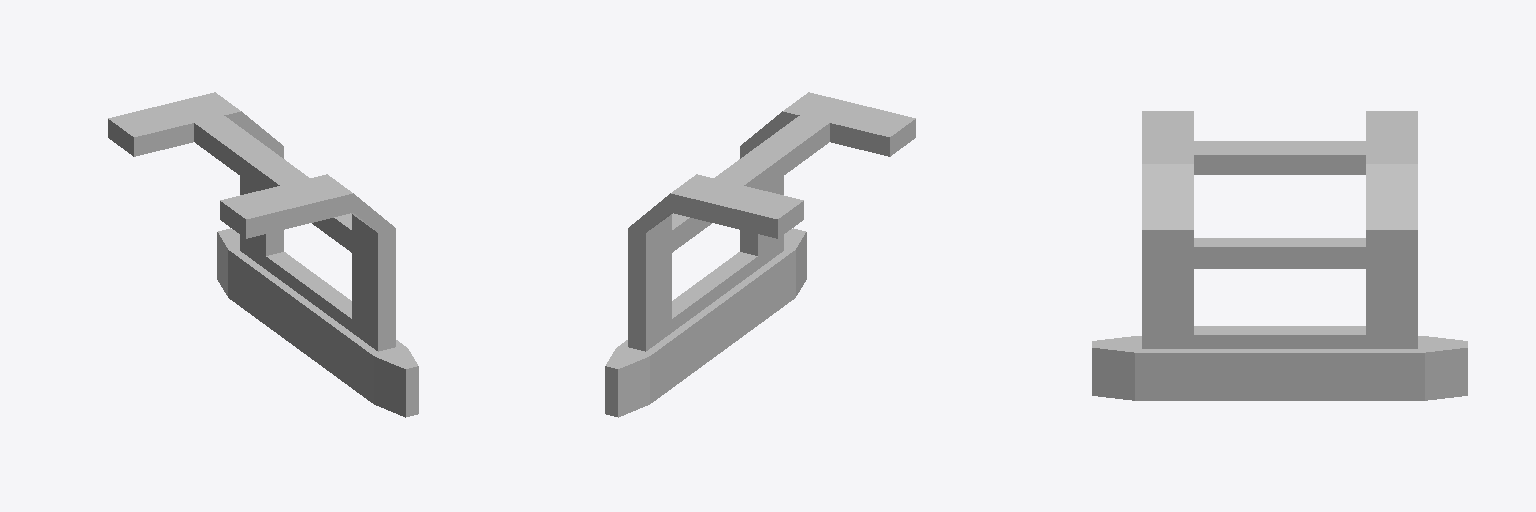
Rendered from TransportArmOffset.obj.
3 views of the same model, side by side, from view 1: azimuth 30°, elevation 25°; view 2: azimuth 150°, elevation 25°; view 3: azimuth 270°, elevation 25° (orthographic).
Parts seen in each view (by area): view 1: Cube.001; view 2: Cube.001; view 3: Cube.001.
Boxes of the visible parts, x1=… form: Cube.001: x1=108, y1=92, x2=418, y2=417; Cube.001: x1=605, y1=92, x2=915, y2=417; Cube.001: x1=1092, y1=111, x2=1467, y2=400.
Size of the model in its own units: 1.98 by 2.55 by 4.09.